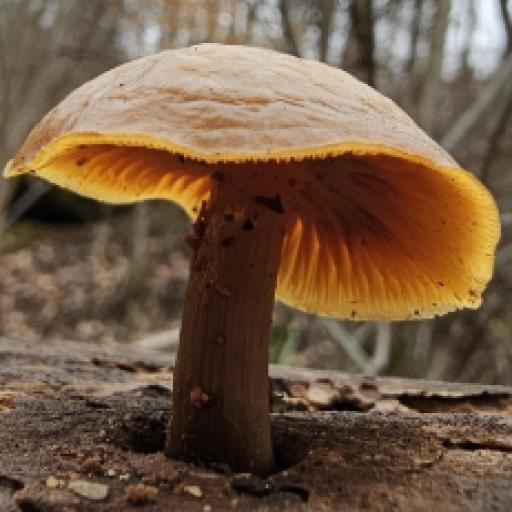mushroom: (6, 42, 501, 393)
